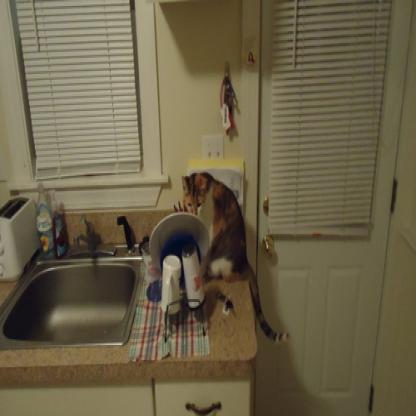Target: (179, 170, 289, 344)
